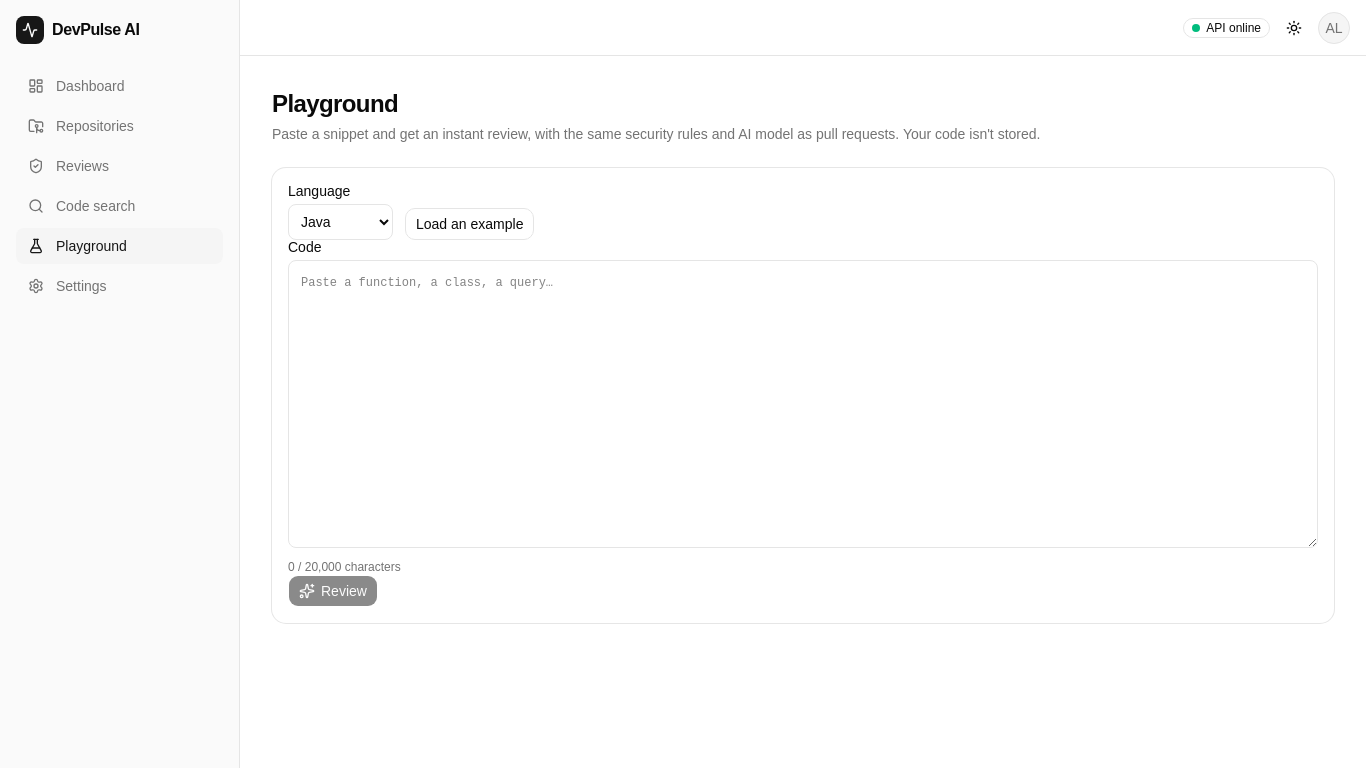
Test: Playground › needs some code, counts characters, and explains rate limits
Expected: the button "Review" is disabled, [288,575,378,607]
Step 1. Type "print(1)" into the text box labelled "Code" → (803, 404), box [288,260,1318,548]
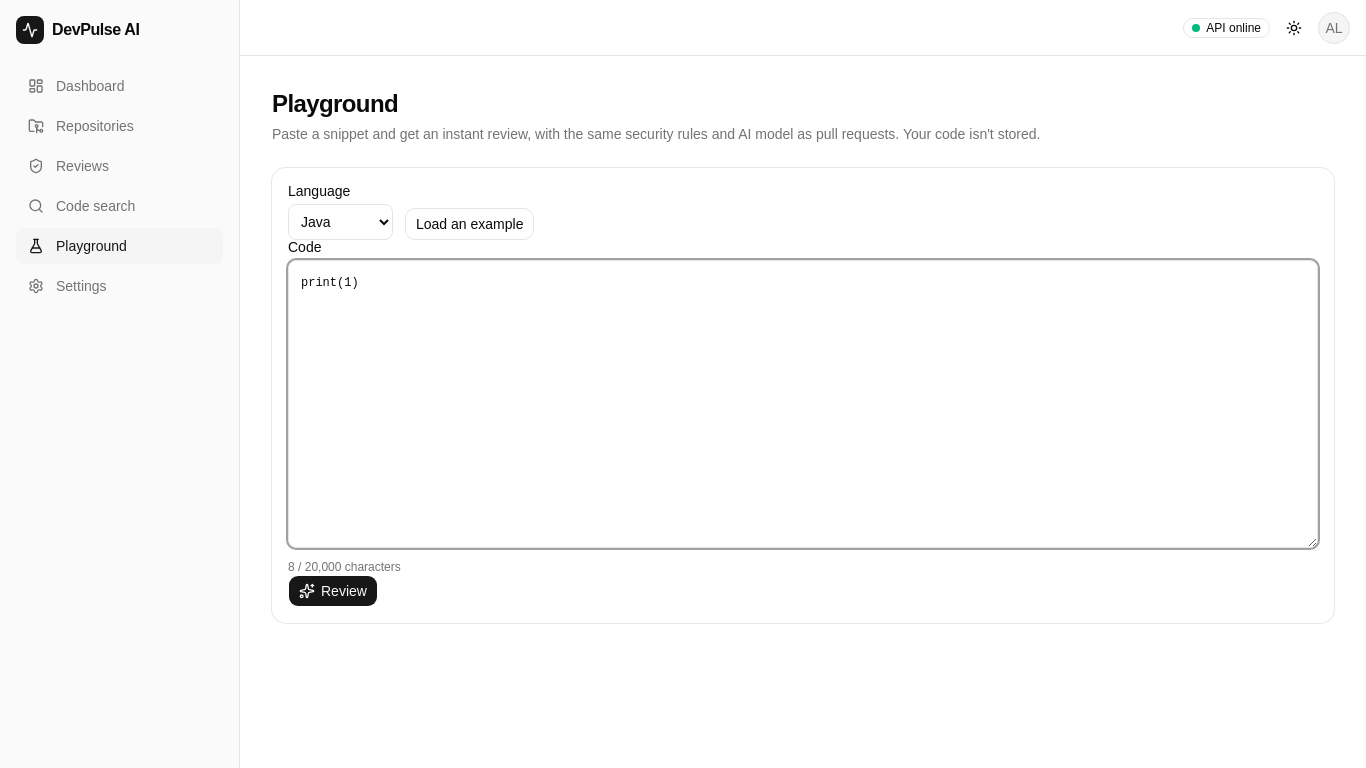
Result: the text "8 / 20,000 characters" is shown at [288,560,401,574]
Step 2. Click the button "Review" → (333, 591), box [288,575,378,607]
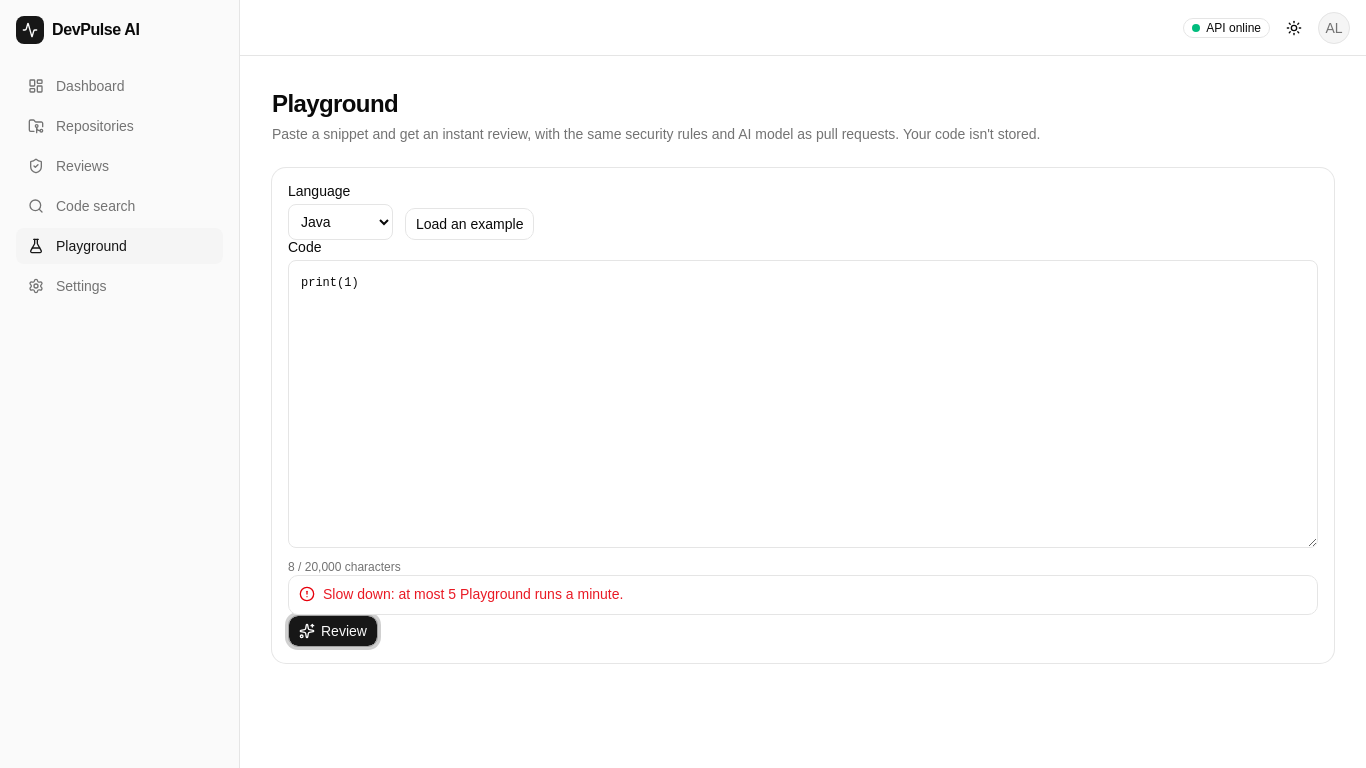
Result: the text "Slow down: at most 5 Playground runs a minute." is shown at [323,586,623,602]
